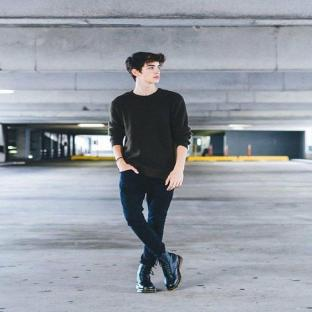Human: (108, 52, 192, 292)
